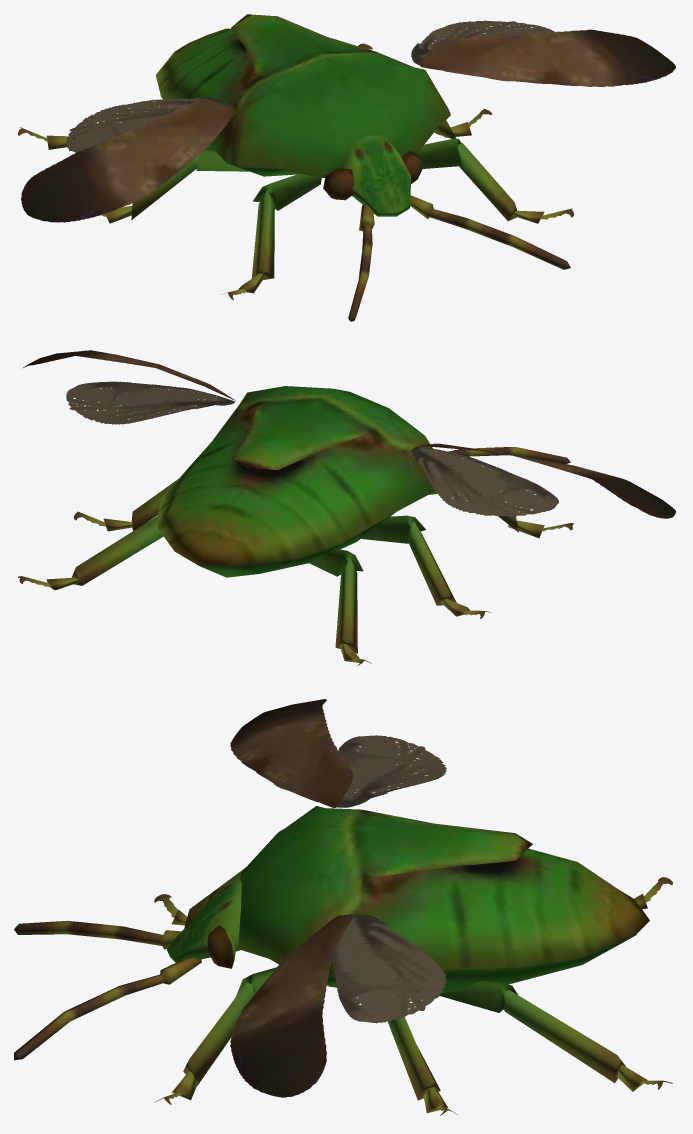
File: stinkbug.glb
3 views of the same model, one above another, from view 1: azimuth 30°, elevation 25°; view 2: azimuth 150°, elevation 25°; view 3: azimuth 270°, elevation 25° (orthographic). The views are drawn at different scales.
Bounding box in the file's own units: 4.91 × 1.1 × 3.56.
2 materials, 2 textured.
